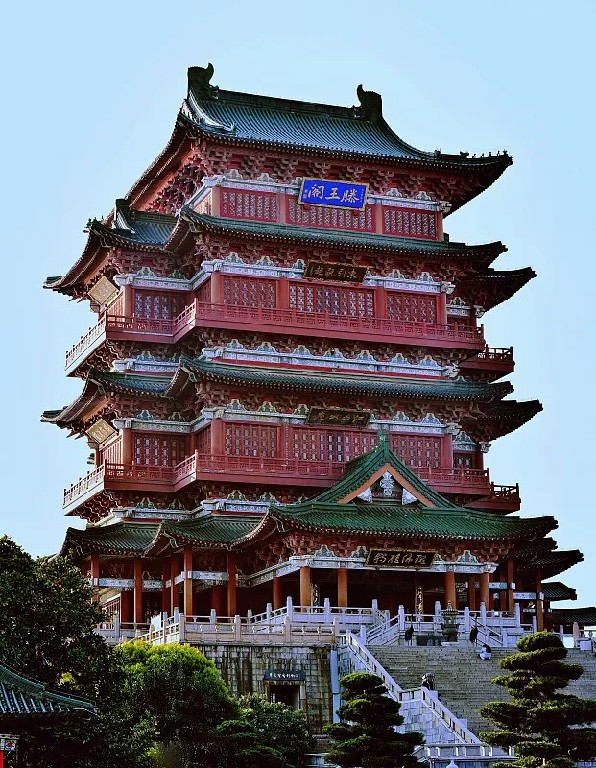Teng: (41, 64, 584, 632)
